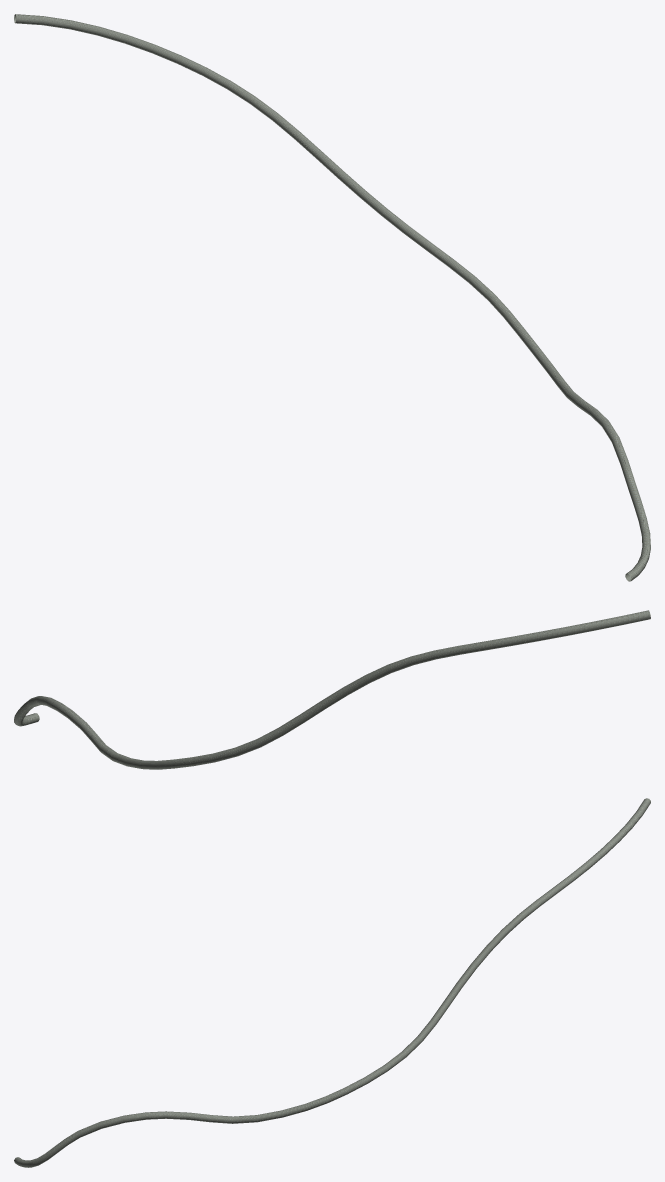
Rendered from microtubule3.fbx.
The picture shows the model from 3 angles, top to bottom: view 1: azimuth 30°, elevation 25°; view 2: azimuth 210°, elevation 25°; view 3: azimuth 270°, elevation 25°; orthographic projection. The views are drawn at different scales.
Parts seen in each view (by area): view 1: microtubule3; view 2: microtubule3; view 3: microtubule3.
Part boxes in pixels (x1=…): microtubule3: x1=14, y1=14, x2=650, y2=581; microtubule3: x1=14, y1=610, x2=650, y2=769; microtubule3: x1=14, y1=798, x2=650, y2=1167.
Bounding box in the file's own units: 5630 × 6050 × 12659.
Materials: 1 (1 with a texture image).
